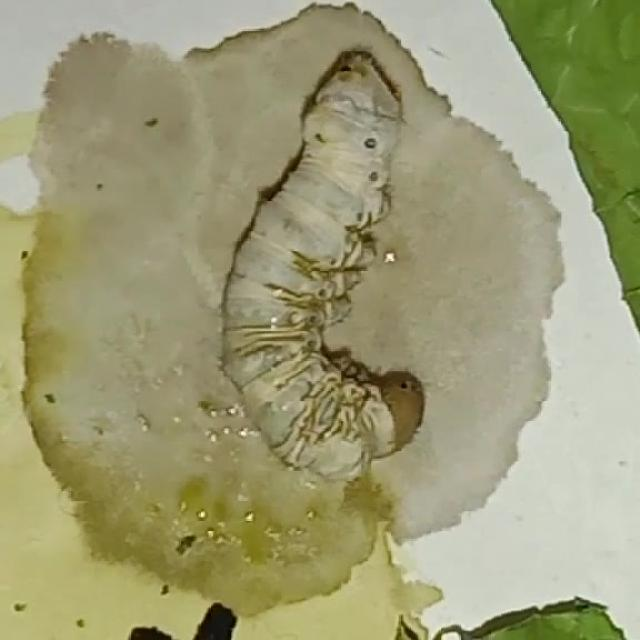Grasserie: (195, 29, 499, 498)
